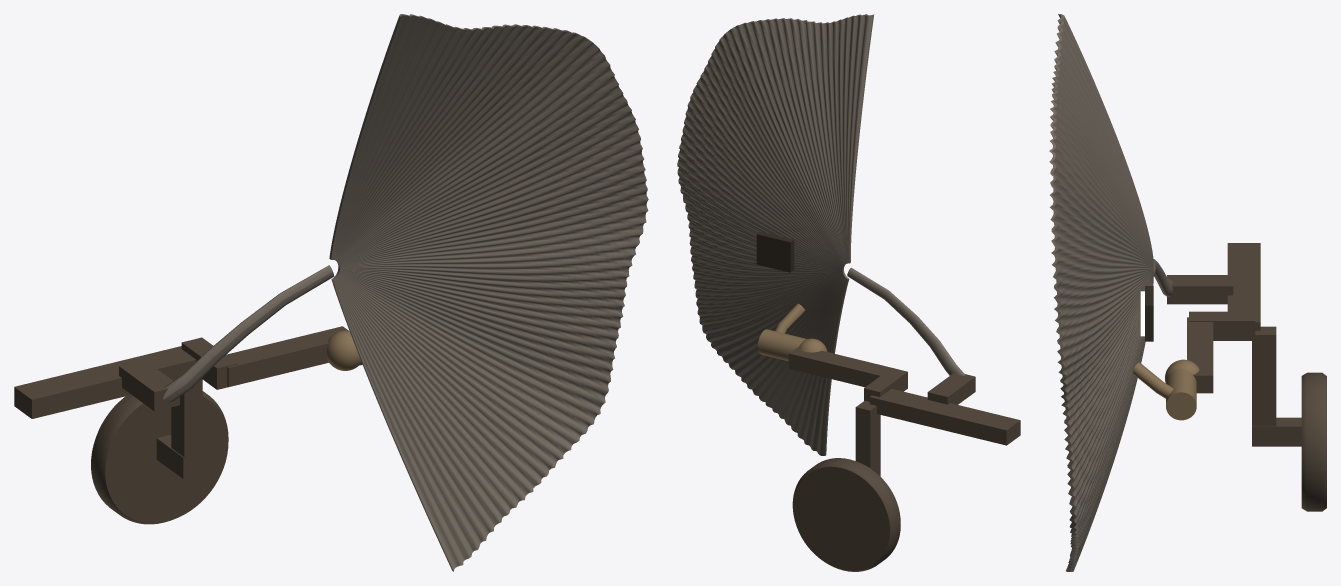
The model's file is LT24_ginkgo_fan_sconce.glb.
3 renders of one model, left to right at view 1: azimuth 30°, elevation 25°; view 2: azimuth 150°, elevation 25°; view 3: azimuth 270°, elevation 25°, orthographic. The views are drawn at different scales.
Visible parts, largest first — view 1: One solid cupped wavy ginkgo fan with 76 radiating ribs, Round stepped wall backplate, Long straight flattened horizontal side arm, Short horizontal forward joint arm, Narrow curved solid leaf petiole, Short upright rectangular support, Leaf petiole mounting saddle, Short forward stand-off from backplate, Stepped fore-aft arm elbow, Spherical adjustable bronze connection; view 2: One solid cupped wavy ginkgo fan with 76 radiating ribs, Round stepped wall backplate, Long straight flattened horizontal side arm, Short horizontal forward joint arm, Narrow curved solid leaf petiole, Short upright rectangular support, Small concealed rear lamp housing, Leaf petiole mounting saddle, Short leaf pivot socket, Stepped fore-aft arm elbow; view 3: One solid cupped wavy ginkgo fan with 76 radiating ribs, Round stepped wall backplate, Short upright rectangular support, Long straight flattened horizontal side arm, Leaf petiole mounting saddle, Short horizontal forward joint arm, Stepped fore-aft arm elbow, Short leaf pivot socket, Short forward stand-off from backplate, Rear angled leaf support, Small concealed rear lamp housing, Narrow curved solid leaf petiole.
Boxes of the visible parts, x1,y1,x2,y2 form: One solid cupped wavy ginkgo fan with 76 radiating ribs: (329,14,648,571); Round stepped wall backplate: (91,391,228,524); Long straight flattened horizontal side arm: (14,346,196,418); Short horizontal forward joint arm: (226,326,348,387); Narrow curved solid leaf petiole: (163,265,334,403); Short upright rectangular support: (171,378,202,467); Leaf petiole mounting saddle: (119,360,179,411); Short forward stand-off from backplate: (156,434,203,478); Stepped fore-aft arm elbow: (181,337,237,389); Spherical adjustable bronze connection: (326,330,361,370); One solid cupped wavy ginkgo fan with 76 radiating ribs: (677,14,874,455); Round stepped wall backplate: (792,458,900,571); Long straight flattened horizontal side arm: (869,388,1020,445); Short horizontal forward joint arm: (788,347,891,387); Narrow curved solid leaf petiole: (847,267,964,375); Short upright rectangular support: (855,400,880,476); Small concealed rear lamp housing: (756,231,794,272); Leaf petiole mounting saddle: (927,373,975,404); Short leaf pivot socket: (757,329,807,361); Stepped fore-aft arm elbow: (864,368,907,401); One solid cupped wavy ginkgo fan with 76 radiating ribs: (1049,14,1153,571); Round stepped wall backplate: (1301,372,1326,511); Short upright rectangular support: (1252,326,1276,426); Long straight flattened horizontal side arm: (1227,243,1260,330); Leaf petiole mounting saddle: (1167,275,1233,304); Short horizontal forward joint arm: (1187,317,1213,393); Stepped fore-aft arm elbow: (1189,311,1255,340); Short leaf pivot socket: (1166,369,1196,420); Short forward stand-off from backplate: (1252,417,1301,446); Rear angled leaf support: (1133,362,1173,398); Small concealed rear lamp housing: (1145,286,1153,341); Narrow curved solid leaf petiole: (1153,259,1173,297).
Size of the model in its own units: 0.5113 by 0.5384 by 0.252.
